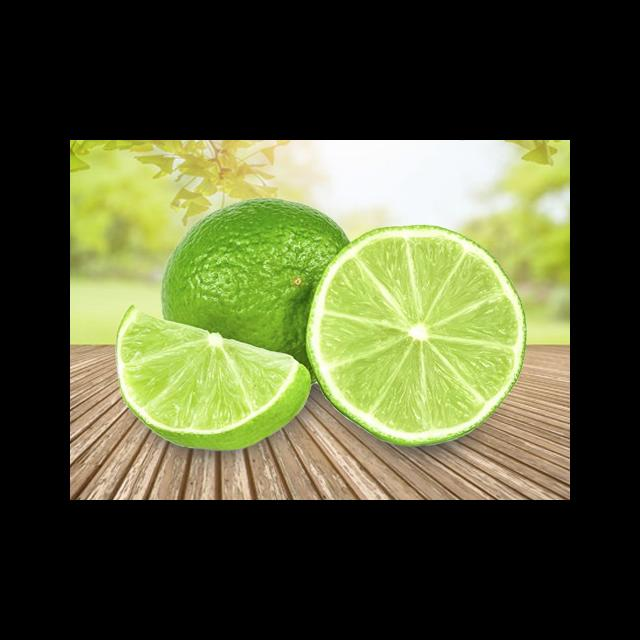lime: (151, 195, 364, 393)
